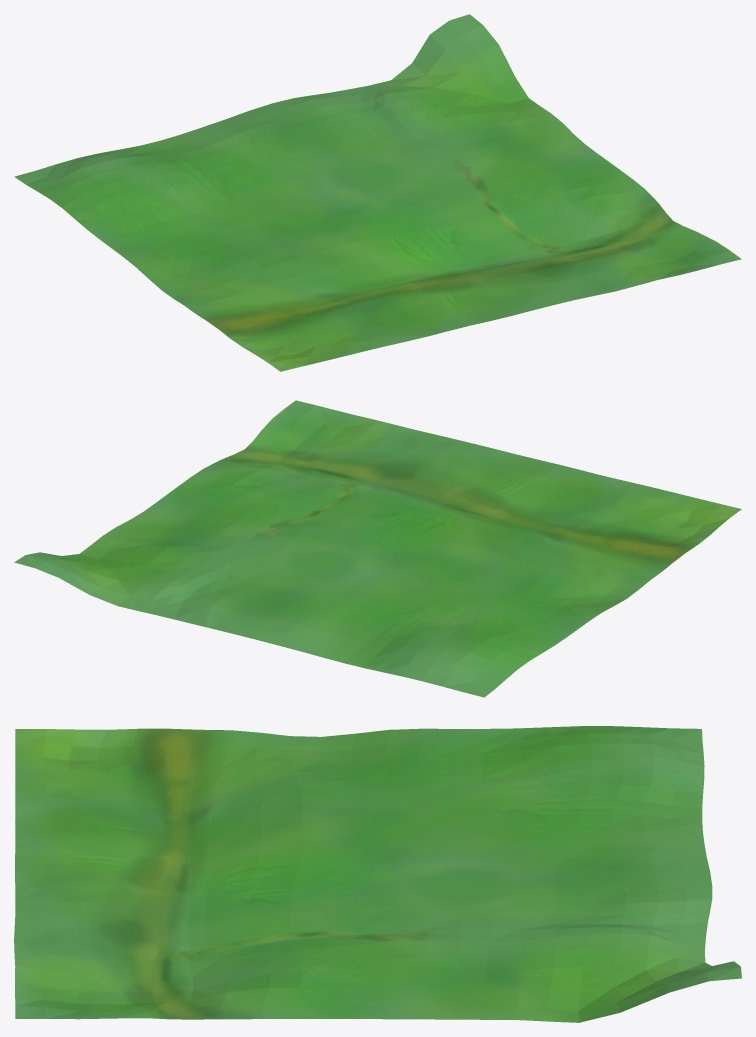
Rendered from grass_floor.fbx.
3 renders of one model, top to bottom at view 1: azimuth 30°, elevation 25°; view 2: azimuth 150°, elevation 25°; view 3: azimuth 270°, elevation 25°, orthographic. The views are drawn at different scales.
Visible parts, largest first — view 1: terrain; view 2: terrain; view 3: terrain.
Part boxes in pixels (<box>): terrain: <box>14,14,741,371</box>; terrain: <box>14,400,741,697</box>; terrain: <box>14,726,741,1022</box>.
Size of the model in its own units: 6175 by 577 by 6362.
Materials: 1 (1 with a texture image).
